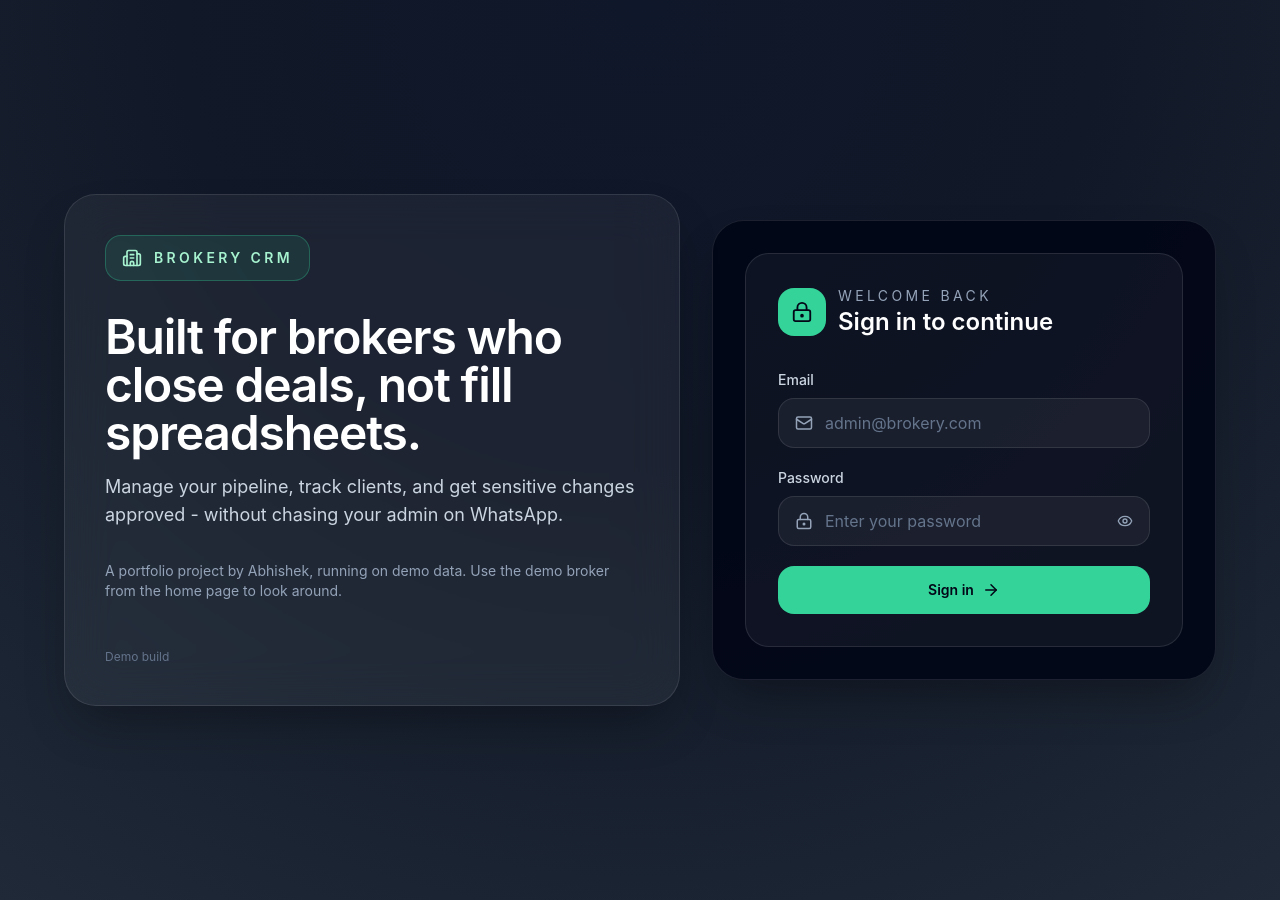
Login › shows the server error message on failure
This screenshot has width=1280, height=900.
In the field with placeholder "admin@brokery.com": (979, 423) [825,411,1133,435], type "x@y.com"
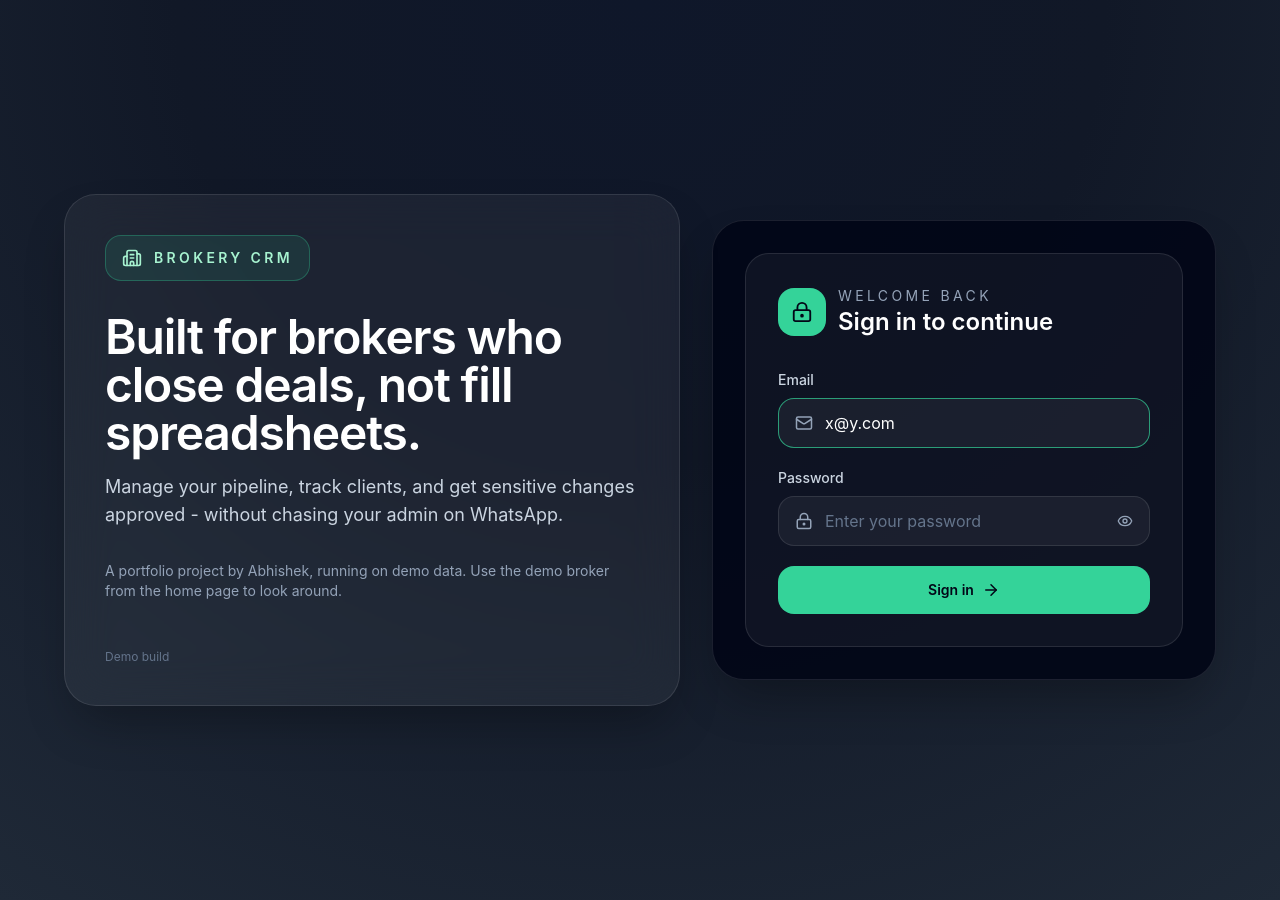
In the password field with placeholder "Enter your password": (965, 521) [825,509,1105,533], type "bad"
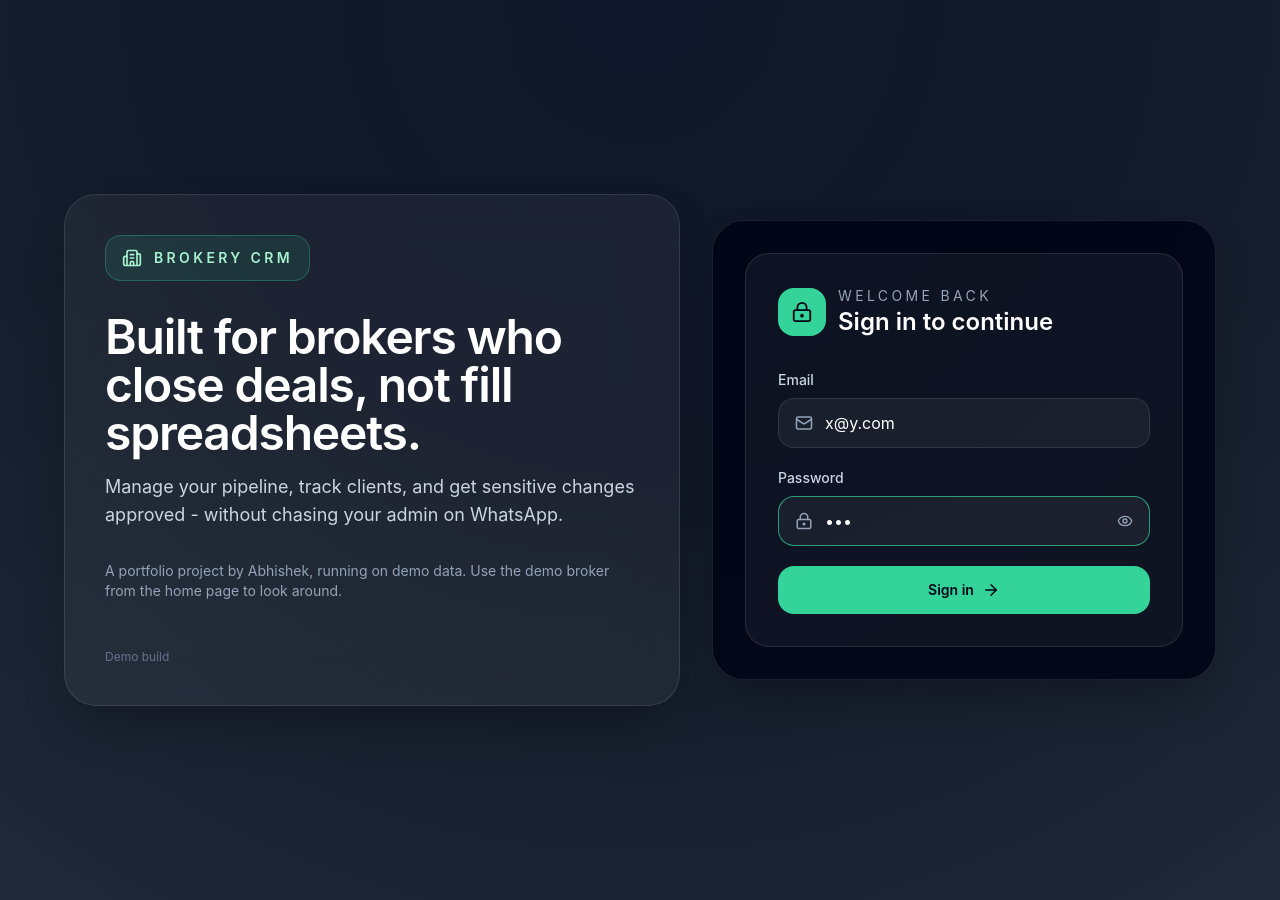
Click the button "Sign in": click(964, 590) [778,566,1150,614]
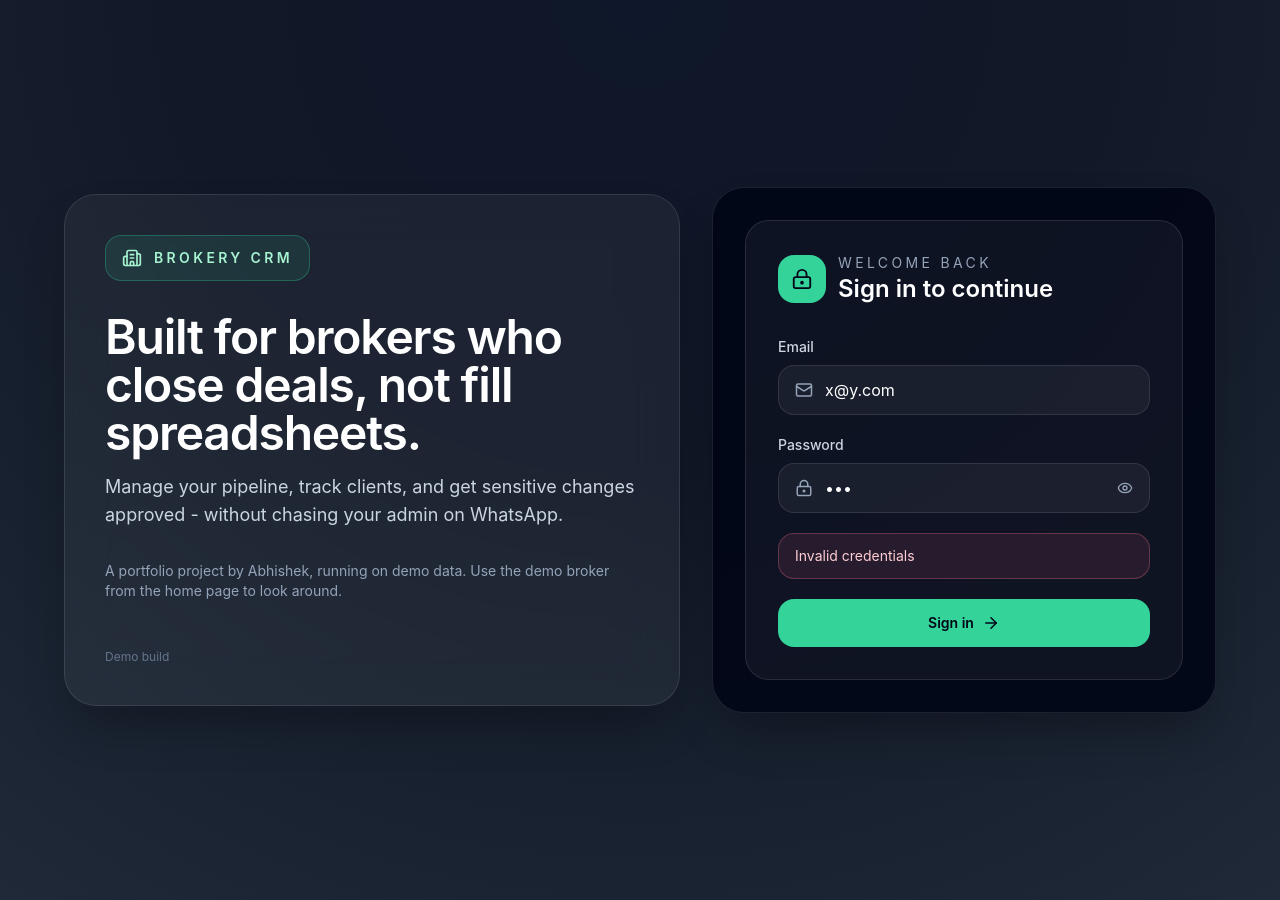
Expected: the text "Invalid credentials" is shown, [778,533,1150,579]
